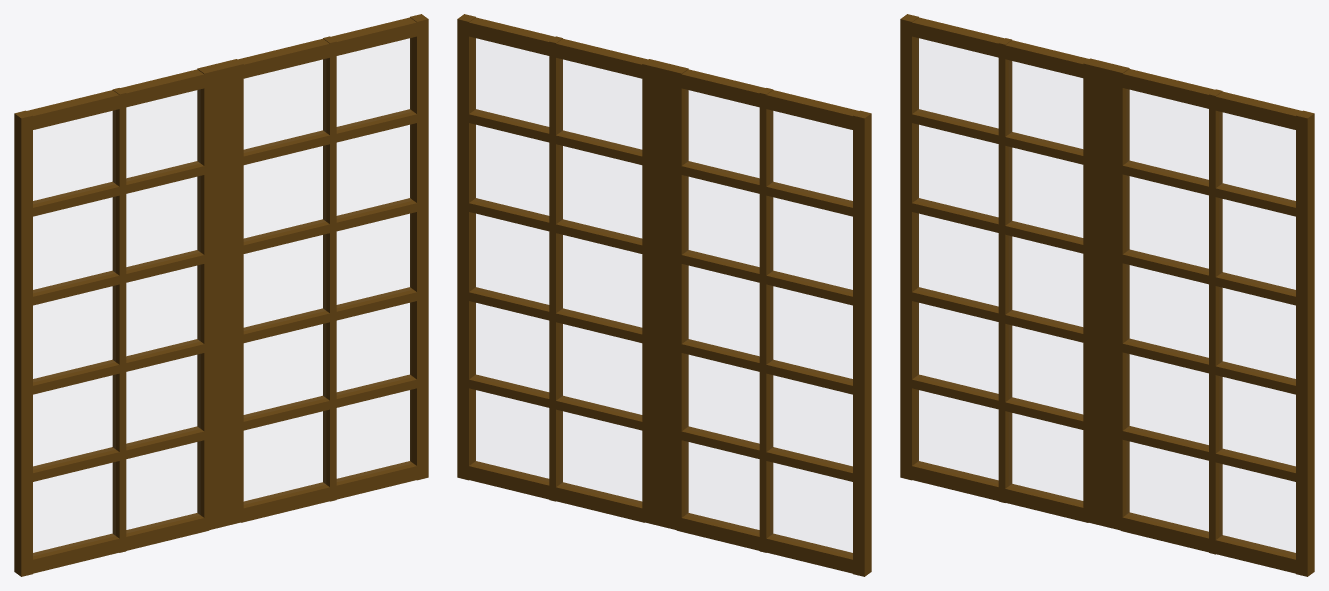
The model's file is window.1db5597e.dae.
3 renders of one model, left to right at view 1: azimuth 30°, elevation 25°; view 2: azimuth 150°, elevation 25°; view 3: azimuth 330°, elevation 25°, orthographic.
Parts seen in each view (by area): view 1: Box, Box9, Box1, Box16, Box8, Box2, Box7, Box15, Box10, Box4, Box5, Box3 (+5 smaller); view 2: Box, Box9, Box1, Box16, Box8, Box2, Box15, Box7, Box10, Box5, Box4, Box3 (+5 smaller); view 3: Box, Box1, Box9, Box16, Box8, Box7, Box15, Box2, Box10, Box5, Box13, Box14 (+5 smaller).
Boxes of the visible parts, box(x1,y1,x2,y2) form: Box: box(197, 59, 243, 531); Box9: box(14, 110, 32, 576); Box1: box(410, 14, 428, 480); Box16: box(112, 88, 126, 552); Box8: box(323, 36, 336, 501); Box2: box(241, 461, 419, 522); Box7: box(238, 17, 419, 78); Box15: box(27, 69, 209, 130); Box10: box(31, 513, 208, 573); Box4: box(241, 287, 419, 343); Box5: box(241, 198, 419, 254); Box3: box(241, 374, 419, 430); Box: box(642, 59, 688, 531); Box9: box(853, 110, 871, 576); Box1: box(457, 14, 475, 480); Box16: box(759, 88, 773, 552); Box8: box(549, 36, 562, 501); Box2: box(466, 461, 644, 522); Box15: box(676, 69, 858, 130); Box7: box(466, 17, 647, 78); Box10: box(677, 513, 854, 573); Box5: box(466, 198, 644, 254); Box4: box(466, 287, 644, 343); Box3: box(469, 374, 644, 430); Box: box(1083, 58, 1129, 530); Box1: box(1296, 110, 1314, 576); Box9: box(900, 14, 918, 480); Box16: box(998, 38, 1012, 502); Box8: box(1209, 89, 1222, 554); Box7: box(1120, 69, 1301, 130); Box15: box(910, 17, 1088, 78); Box2: box(1121, 512, 1298, 573); Box10: box(912, 461, 1088, 522); Box5: box(1120, 249, 1298, 306); Box13: box(910, 198, 1088, 254); Box14: box(910, 109, 1088, 165).
Bounding box in the file's own units: 2.29 × 2.47 × 0.0682.
